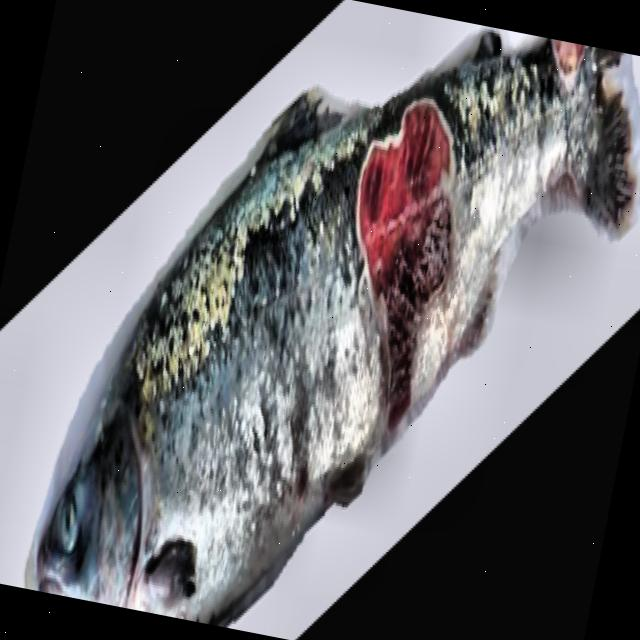mild_red: (126, 29, 590, 623)
wound: (355, 97, 459, 436), (551, 39, 585, 73)
